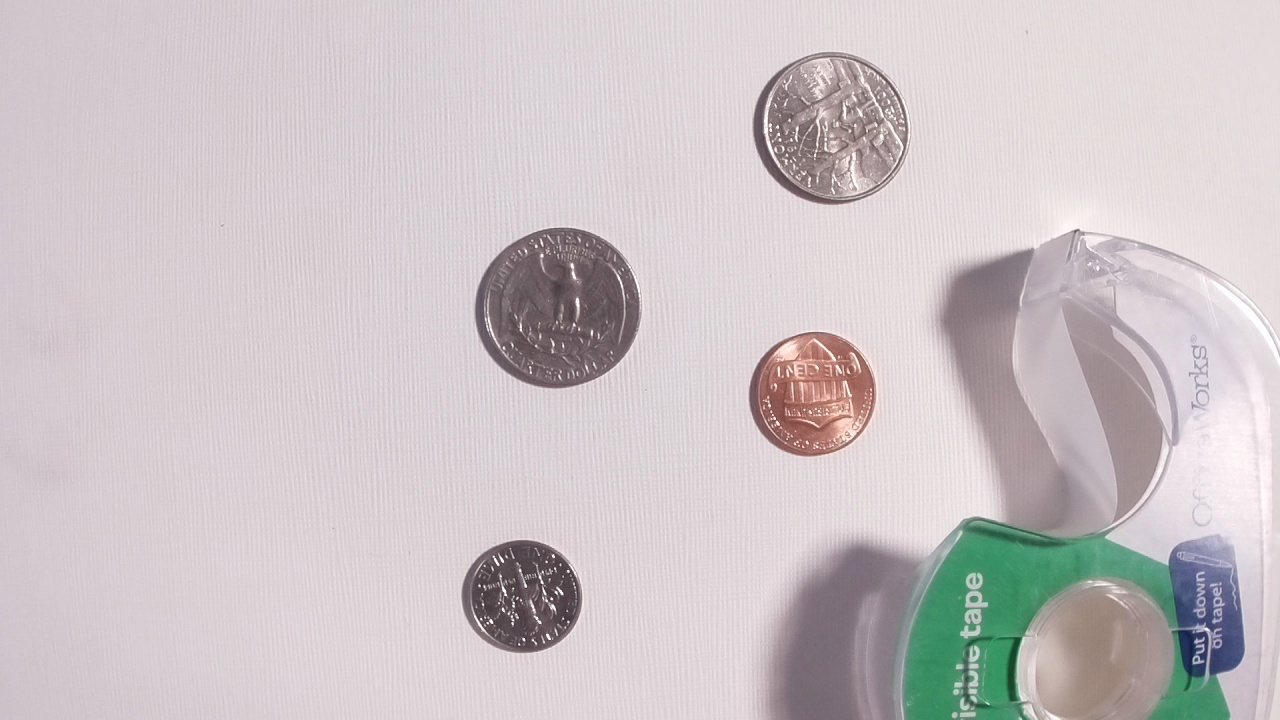dime: (460, 536, 586, 656)
penny: (742, 326, 882, 458)
quarter: (467, 222, 649, 392), (750, 47, 914, 207)
